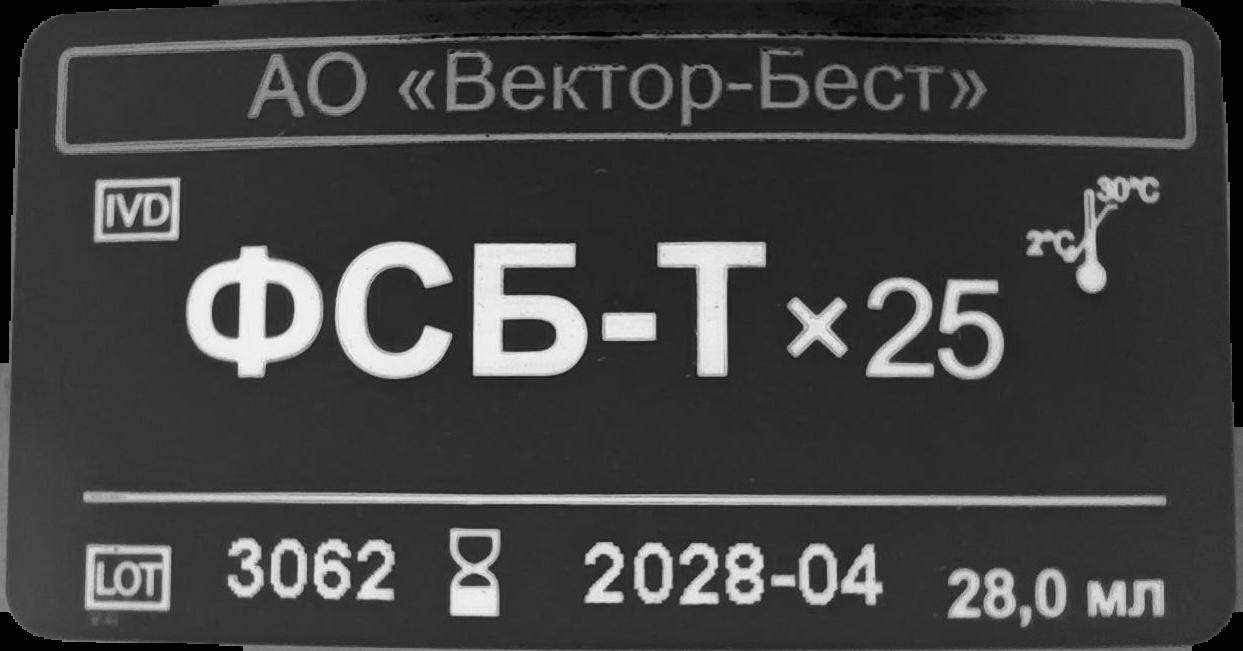something: (1022, 172, 1169, 300), (85, 541, 175, 619), (90, 173, 185, 244), (446, 526, 503, 620)
text: (184, 233, 1015, 396), (238, 36, 996, 140), (575, 537, 885, 611), (946, 565, 1170, 629), (228, 532, 395, 608)
